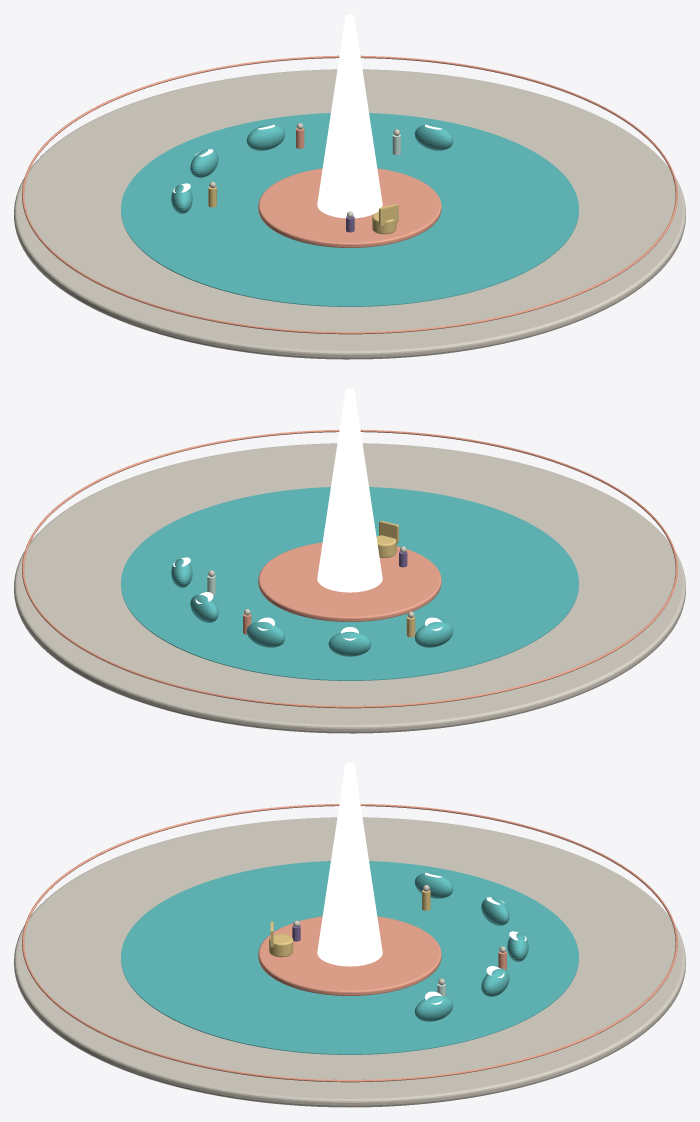
Rendered from bridge_slice.glb.
3 views of the same model, one above another, from view 1: azimuth 30°, elevation 25°; view 2: azimuth 150°, elevation 25°; view 3: azimuth 270°, elevation 25° (orthographic).
Visible parts, largest first — view 1: deck, inlay, captain_ring, spire_tip, rail, console_0, console_2, console_3; view 2: deck, inlay, captain_ring, spire_tip, rail, console_3, console_2, console_4, console_1; view 3: deck, inlay, captain_ring, spire_tip, rail, console_0, console_4, console_1, console_3.
Part boxes in pixels (x1,y1,x2,y2): deck: [14, 69, 685, 359]; inlay: [121, 113, 578, 306]; captain_ring: [258, 168, 441, 247]; spire_tip: [317, 14, 382, 218]; rail: [22, 55, 677, 334]; console_0: [414, 124, 453, 150]; console_2: [246, 124, 285, 150]; console_3: [190, 149, 218, 177]; deck: [14, 443, 685, 733]; inlay: [121, 487, 578, 680]; captain_ring: [258, 542, 441, 621]; spire_tip: [317, 388, 382, 592]; rail: [22, 429, 677, 708]; console_3: [328, 631, 371, 656]; console_2: [246, 621, 284, 647]; console_4: [415, 621, 453, 647]; console_1: [190, 594, 218, 622]; deck: [14, 817, 685, 1107]; inlay: [121, 861, 578, 1054]; captain_ring: [258, 916, 441, 995]; spire_tip: [317, 762, 382, 966]; rail: [22, 803, 677, 1082]; console_0: [414, 995, 453, 1021]; console_4: [414, 872, 453, 898]; console_1: [481, 968, 509, 996]; console_3: [481, 897, 509, 925].
Size of the model in its own units: 44 by 14.6 by 44.
